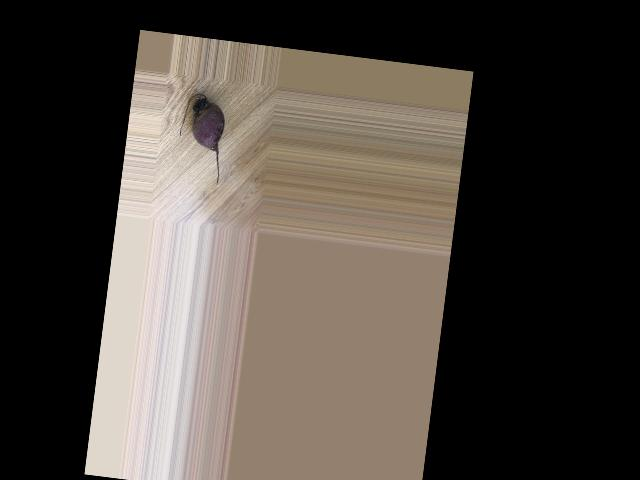beet: (174, 92, 229, 185)
